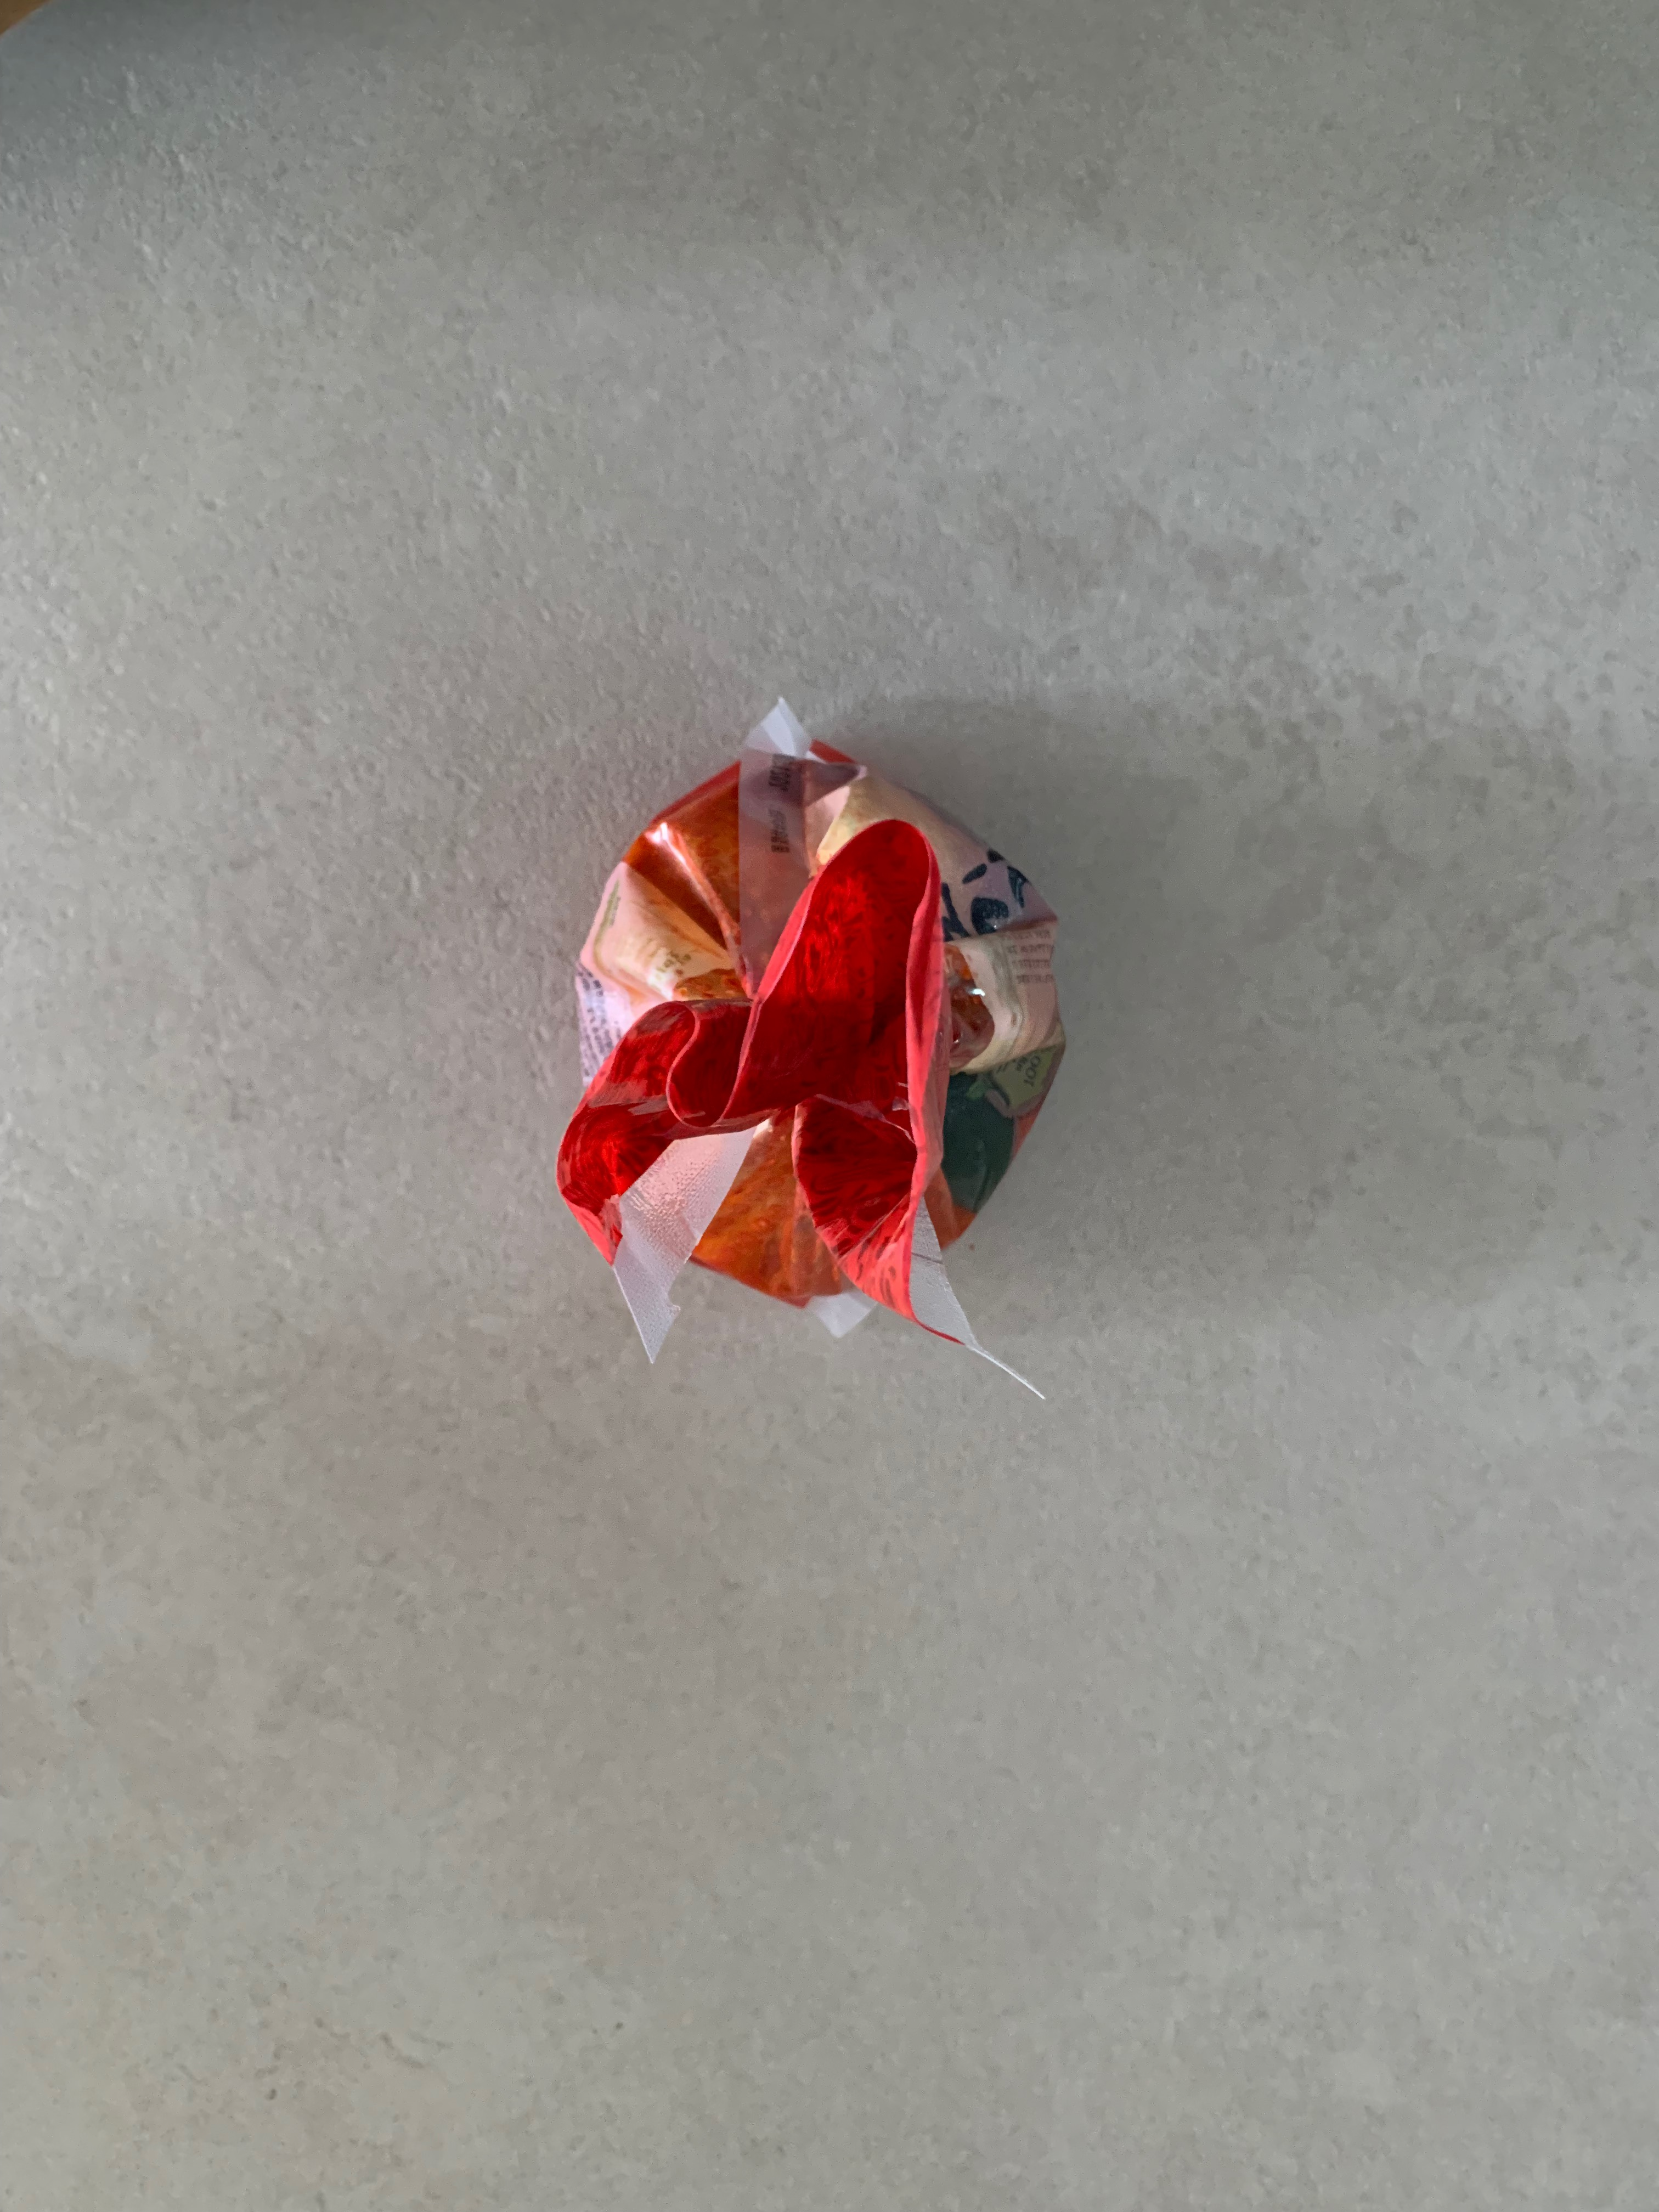kimchi: (558, 747, 1072, 1317)
